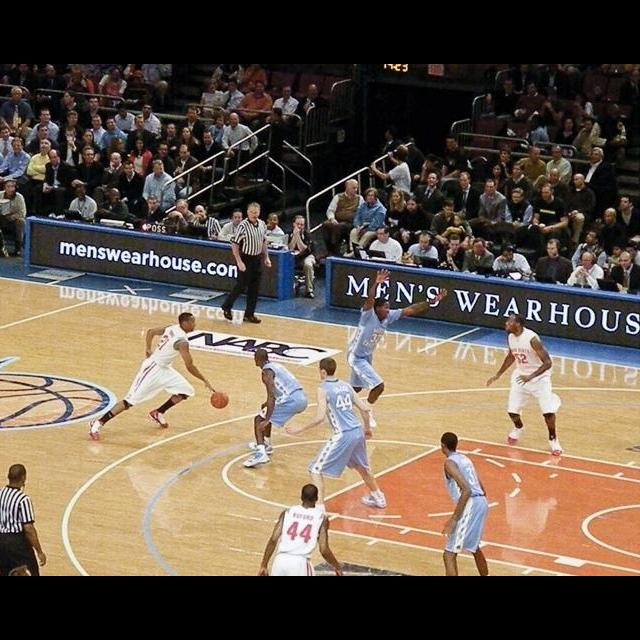basketball: (210, 389, 227, 408)
